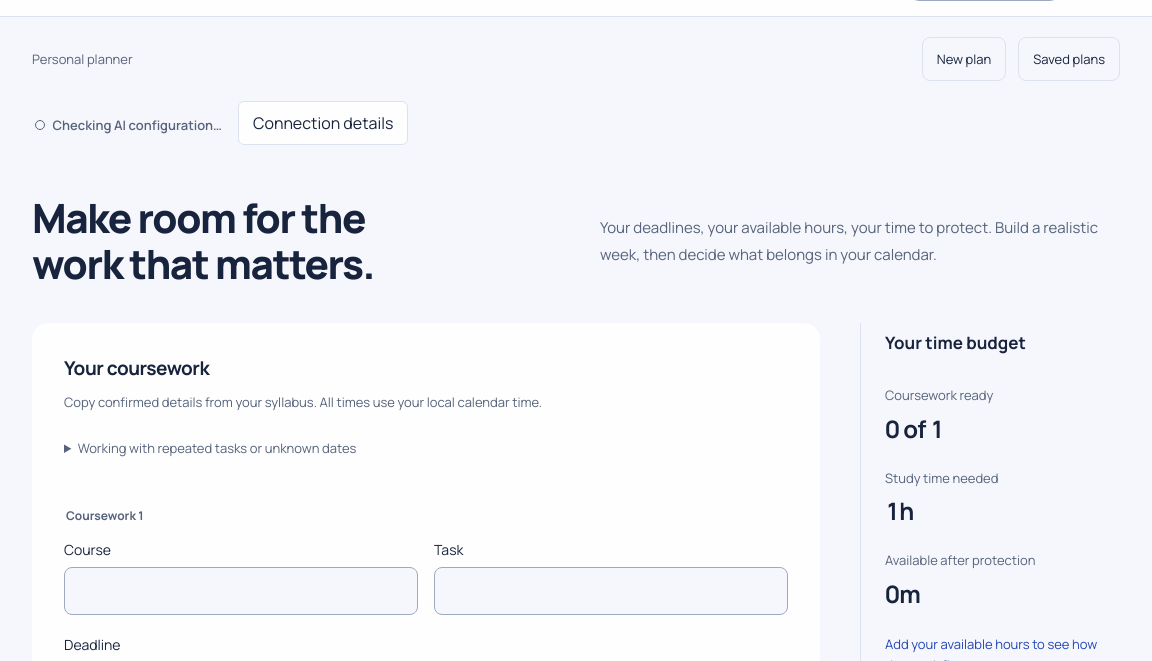
it: revising a saved plan › cancels back to the original approved plan without sending a POST
This screenshot has width=1152, height=661.
Click the button "Saved plans" at (1069, 59), box [1018,37,1120,81]
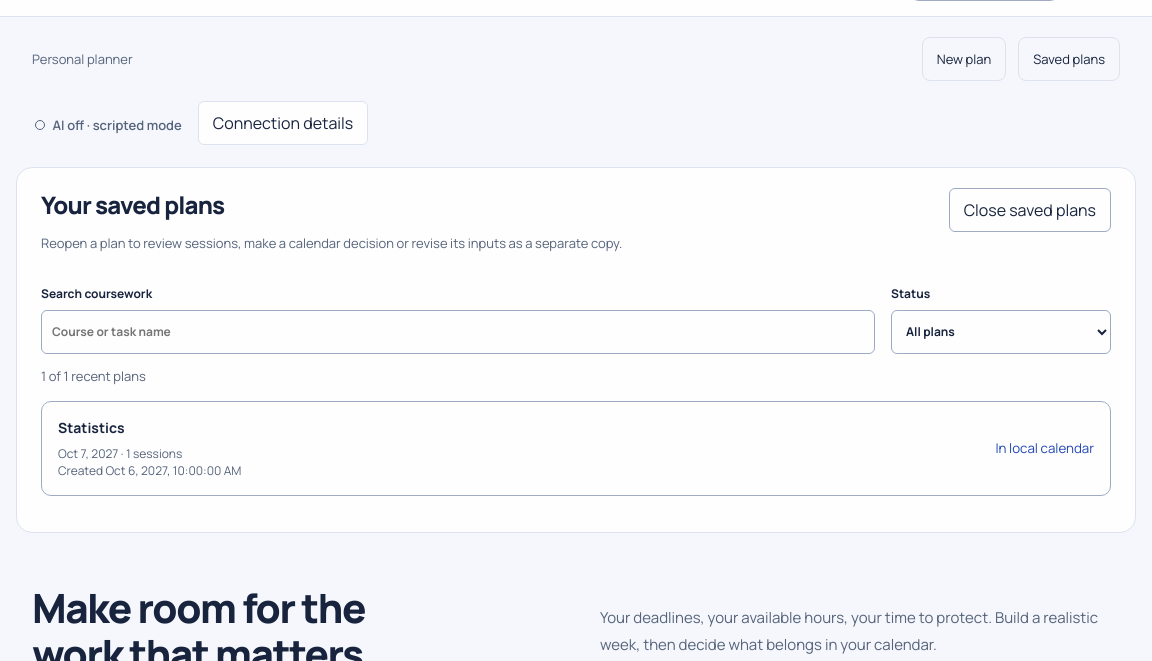
Click the button that starts with "Statistics" at (91, 427), box [41,401,1111,496]
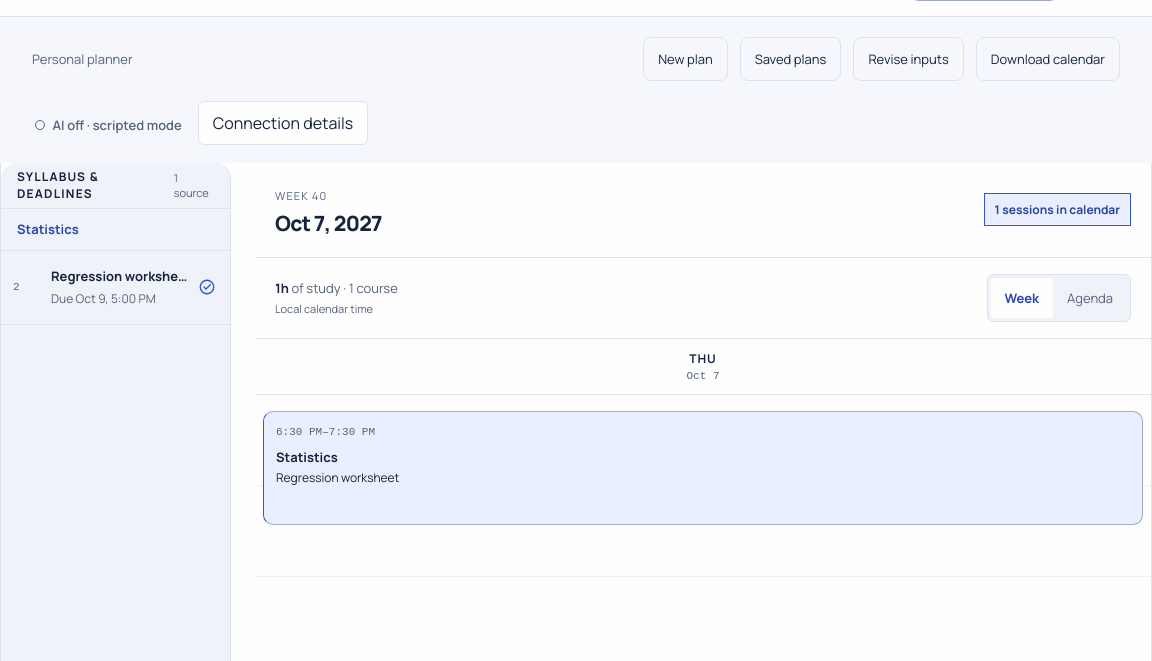
Click the button "Revise inputs" at (909, 59), box [853,37,964,81]
(page scrolled)
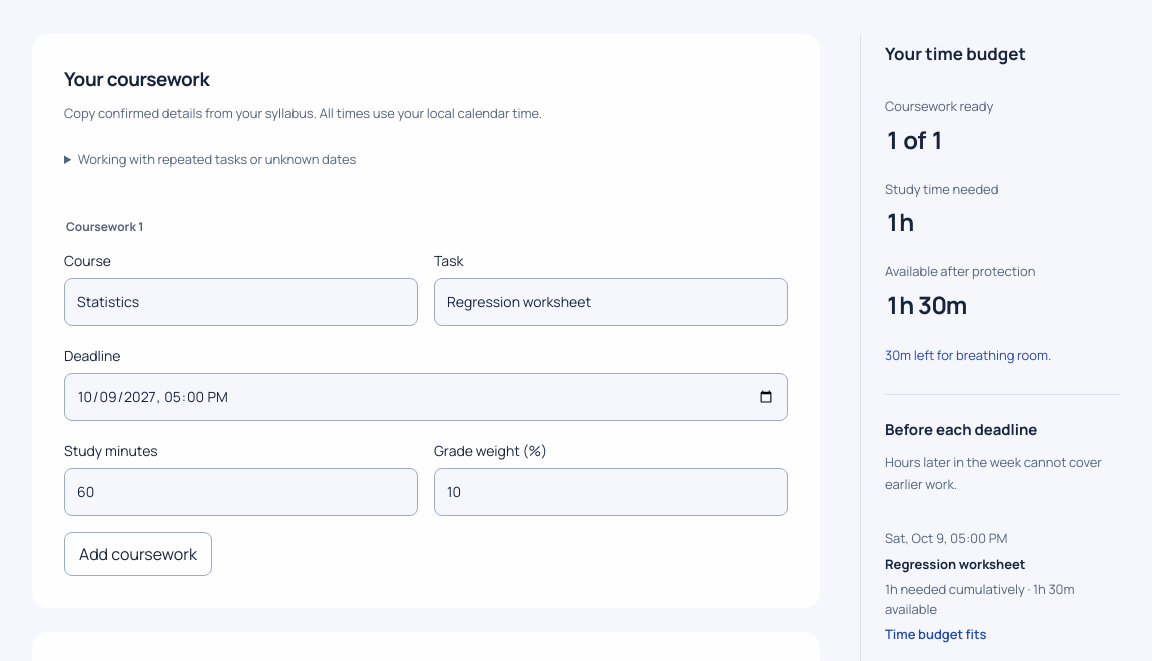
Replace the text in the field labelled "Task" with "Discarded draft" at (611, 302), box [434,278,788,326]
(page scrolled)
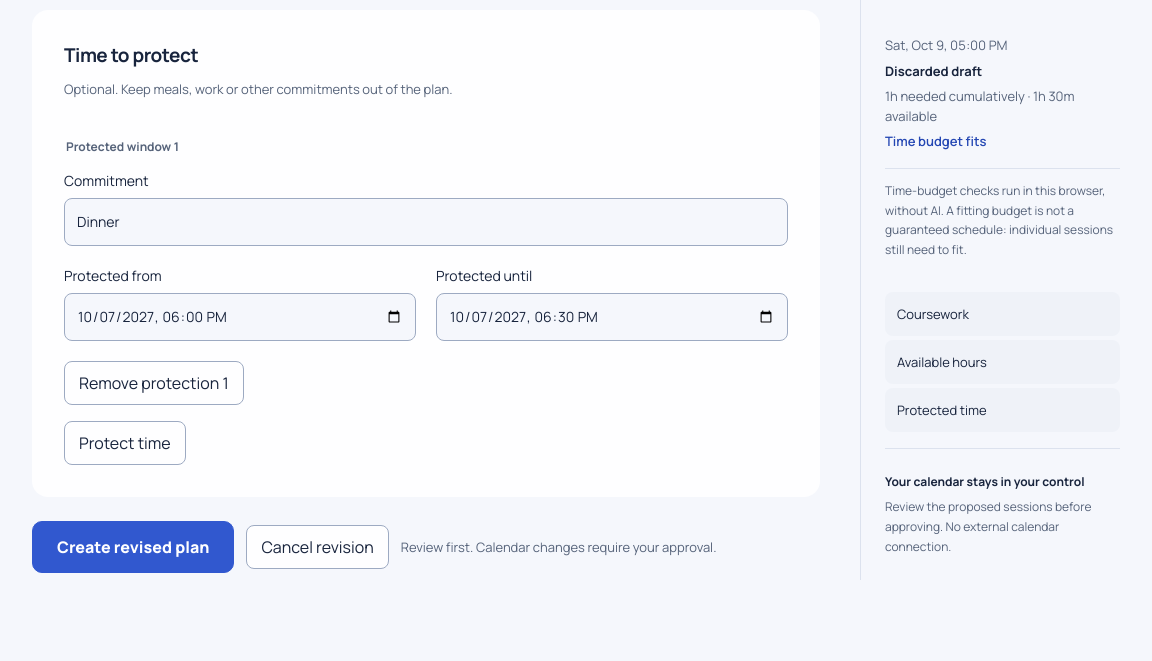
Click the button "Cancel revision" at (318, 547), box [246,525,389,569]
(page scrolled)
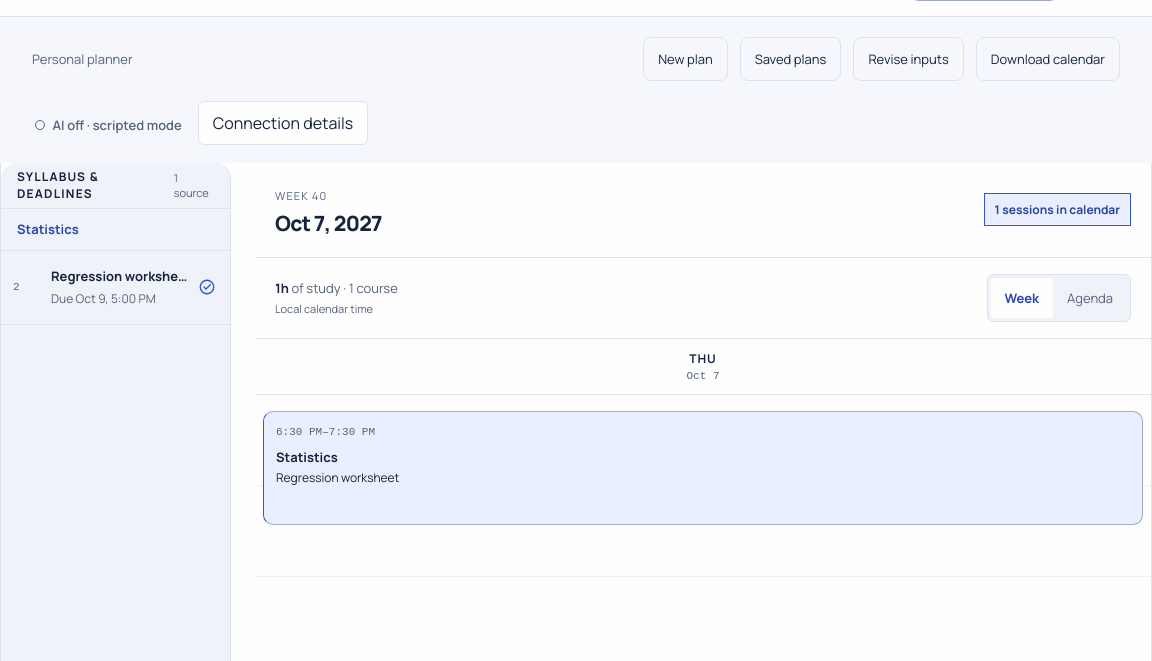
Now the button "Download calendar" is enabled, box [976,37,1120,81]
Click the button "Revise inputs" at (909, 59), box [853,37,964,81]
(page scrolled)
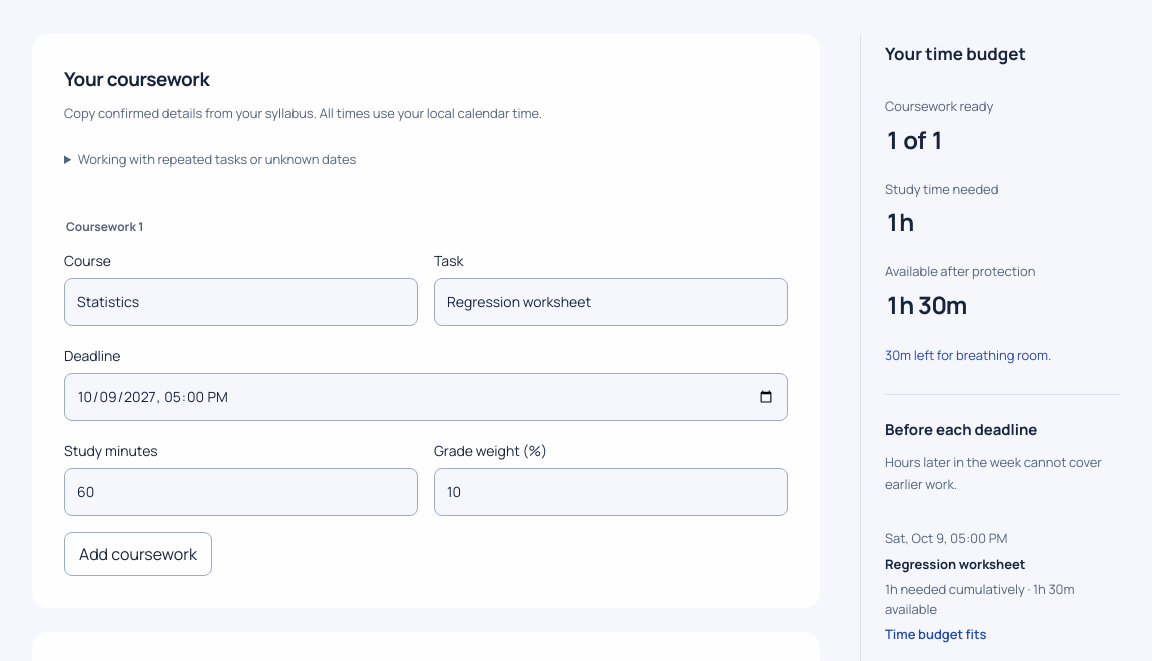
Now the field labelled "Task" holds "Regression worksheet", box [434,278,788,326]
